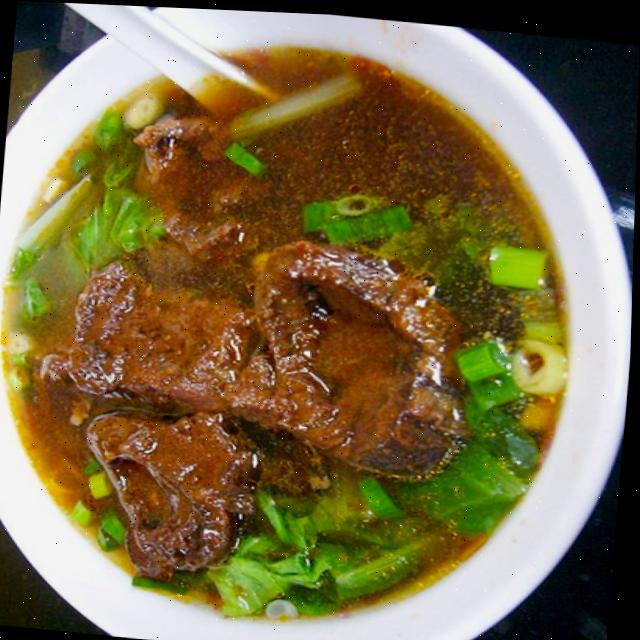面条主食: (0, 0, 573, 640)
